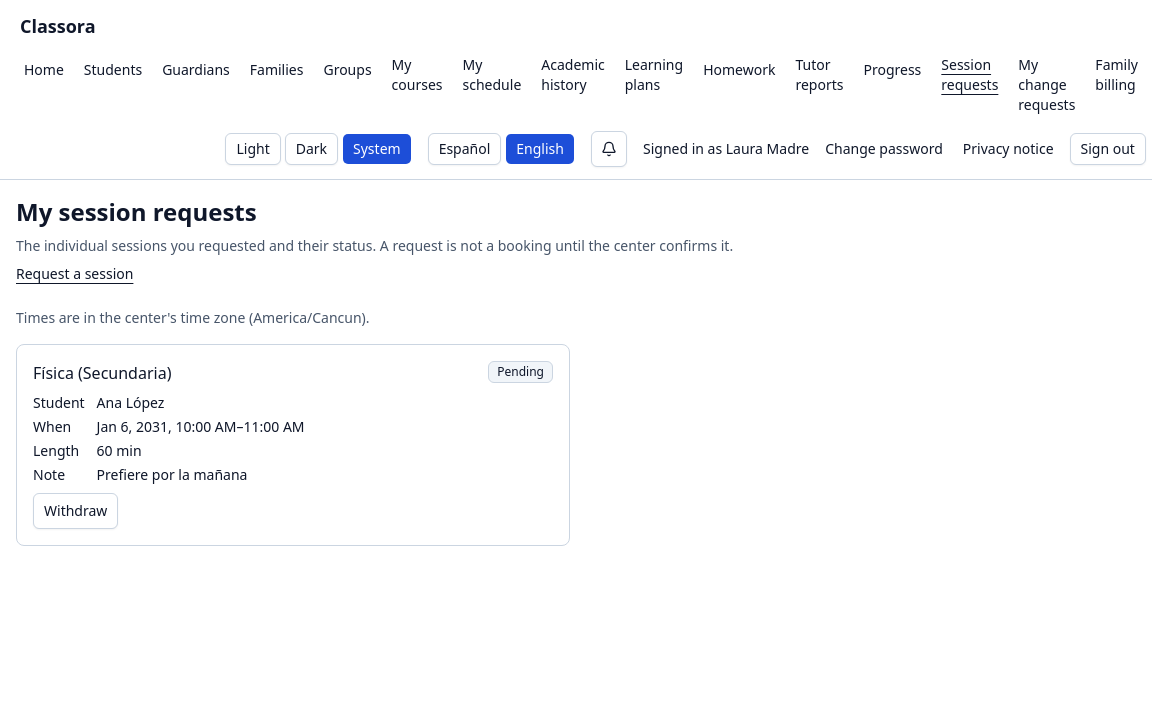
/requests › a 409 version_conflict shows its message and refreshes
The image size is (1152, 720).
Click the button "Withdraw": (76, 511) x1=33 y1=493 x2=118 y2=529
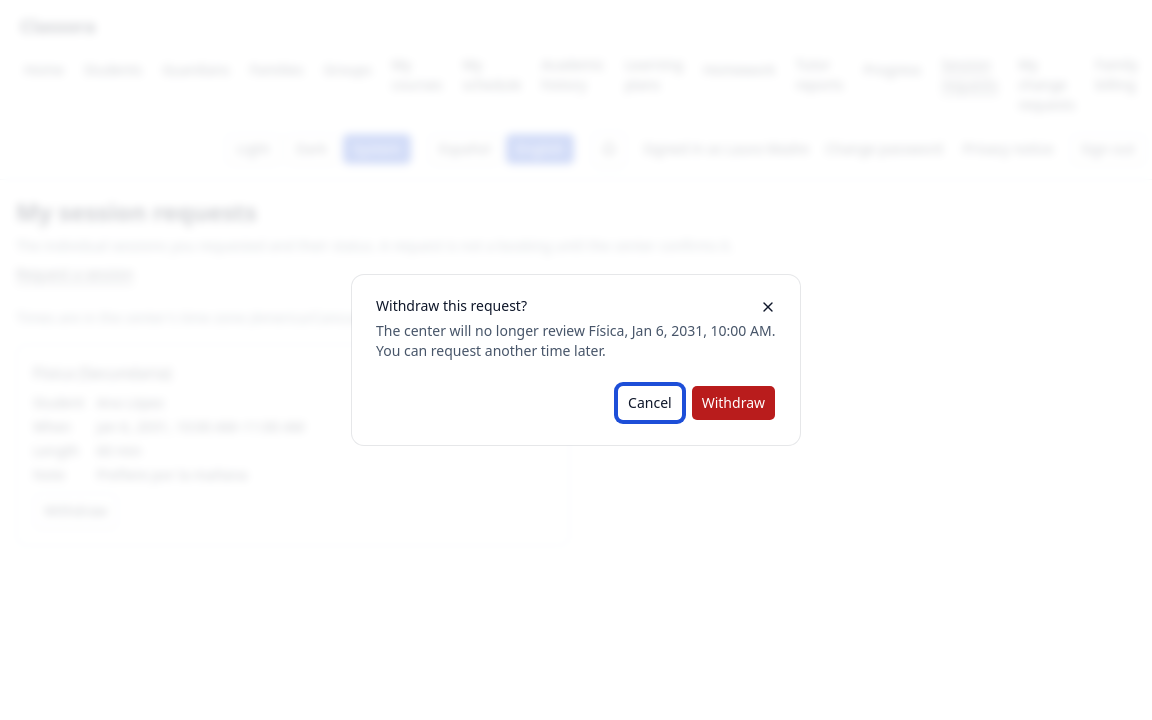
Click the button "Withdraw": (733, 403) x1=691 y1=385 x2=776 y2=421
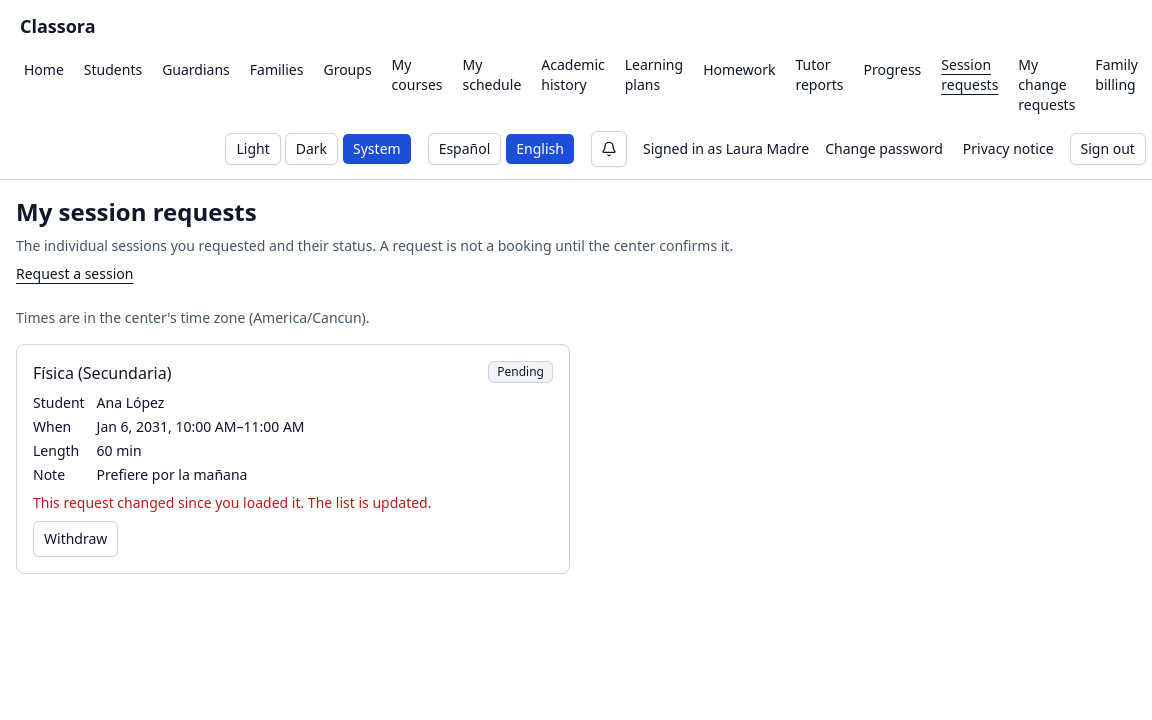
Result: the message "This request changed since you loaded it. The list is updated." is shown at x1=33 y1=493 x2=432 y2=512
